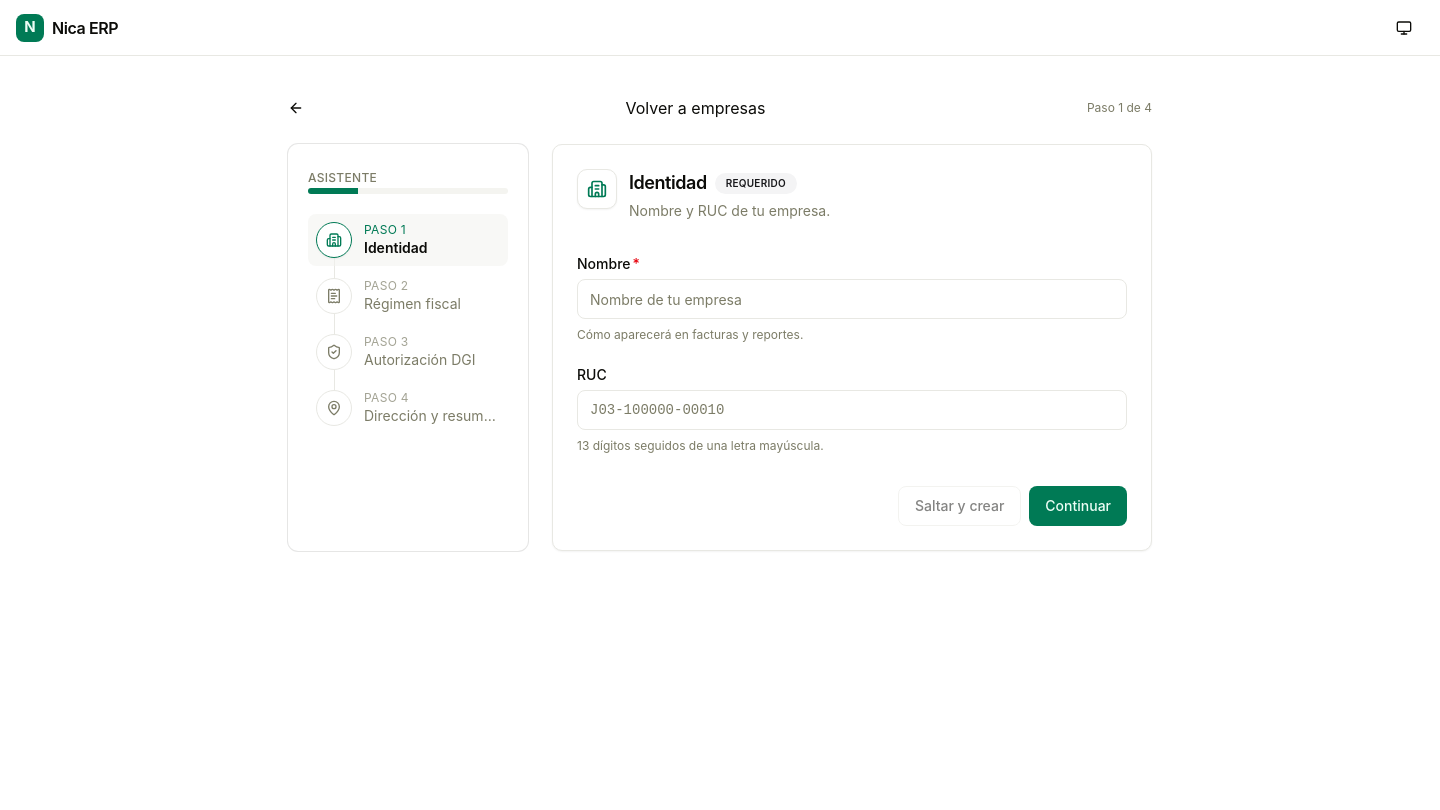
Test: TenantsNewRoute (skippable wizard) › disables 'Saltar y crear' until name is non-empty, then enables it
Check: the button "Saltar y crear" is disabled, box [898,486,1021,526]
Type "Mi Empresa" into the field labelled "Nombre *".
click(852, 299); type("Mi Empresa")  # box [577,279,1127,319]
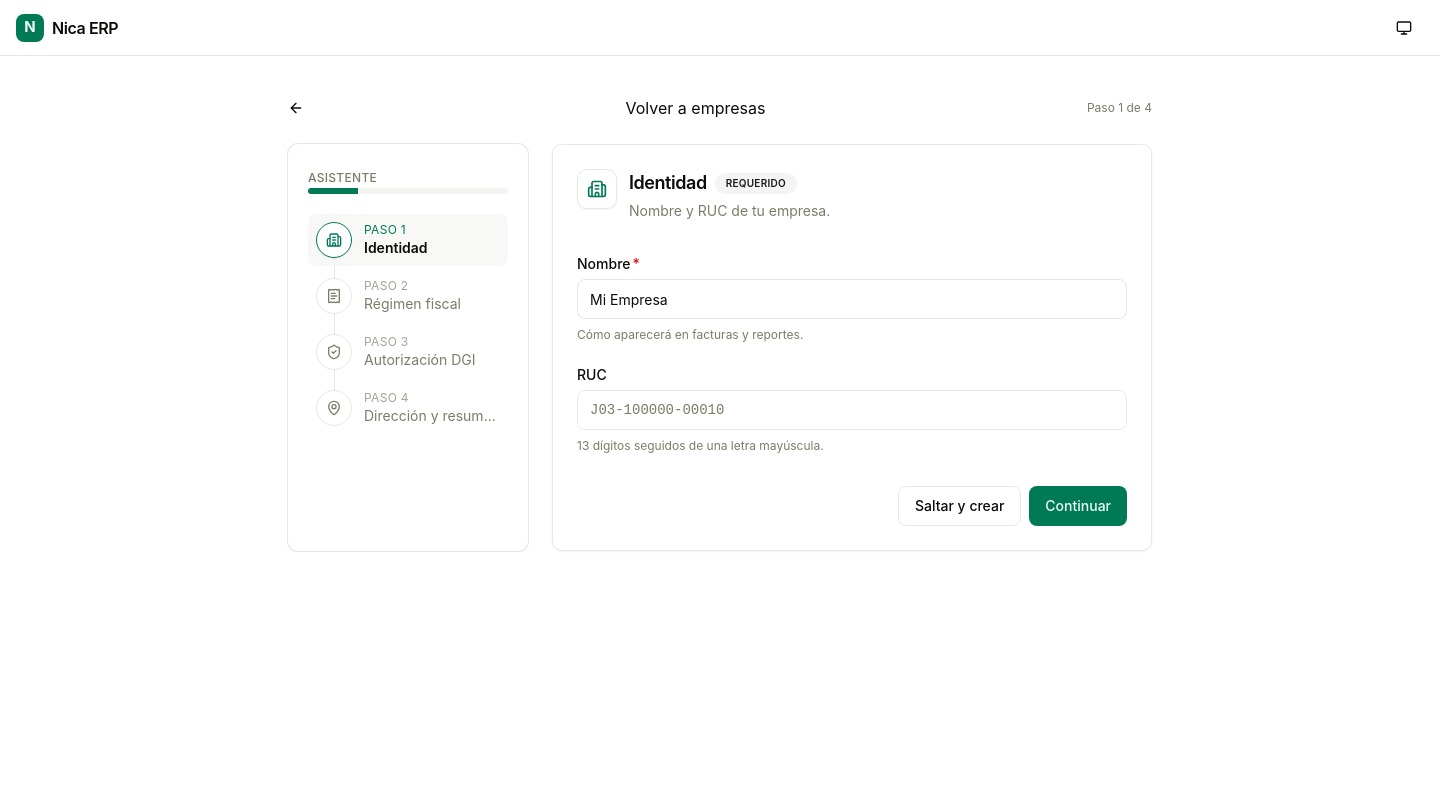
Check: the button "Saltar y crear" is enabled, box [898,486,1021,526]
